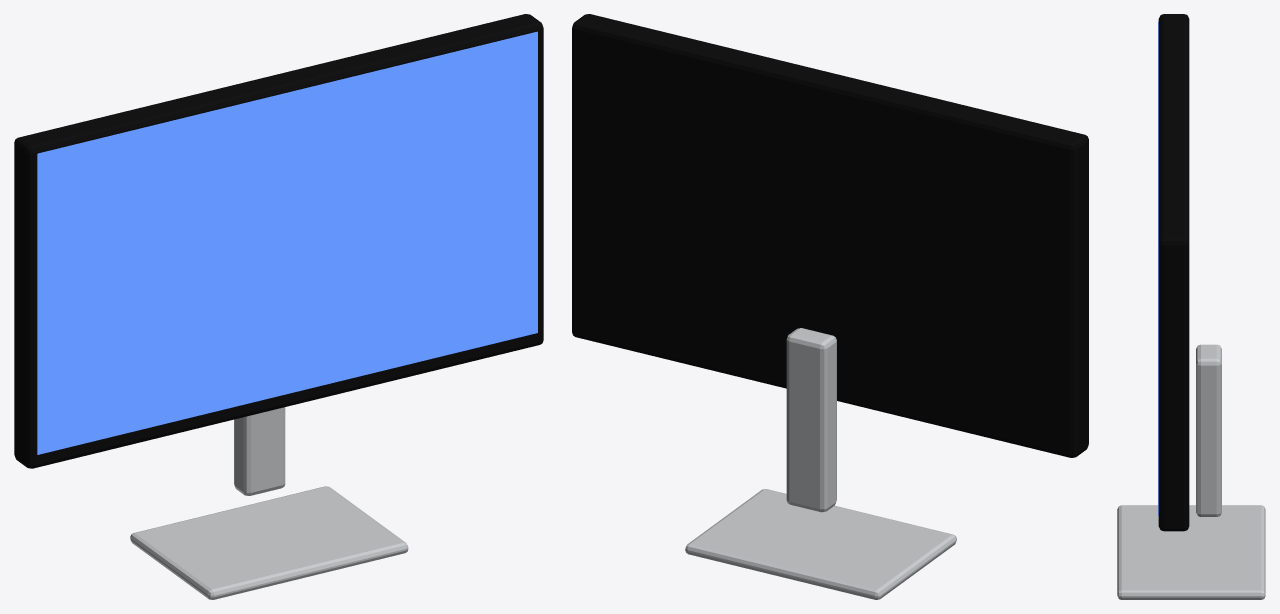
File: tech_monitor.glb
3 renders of one model, left to right at view 1: azimuth 30°, elevation 25°; view 2: azimuth 150°, elevation 25°; view 3: azimuth 270°, elevation 25°, orthographic. The views are drawn at different scales.
Parts seen in each view (by area): view 1: Monitor; view 2: Monitor; view 3: Monitor.
Part boxes in pixels (x1,y1,x2,y2): Monitor: (14,14,543,599); Monitor: (572,14,1088,599); Monitor: (1117,14,1265,599).
Bounding box in the file's own units: 0.62 × 0.545 × 0.17.
